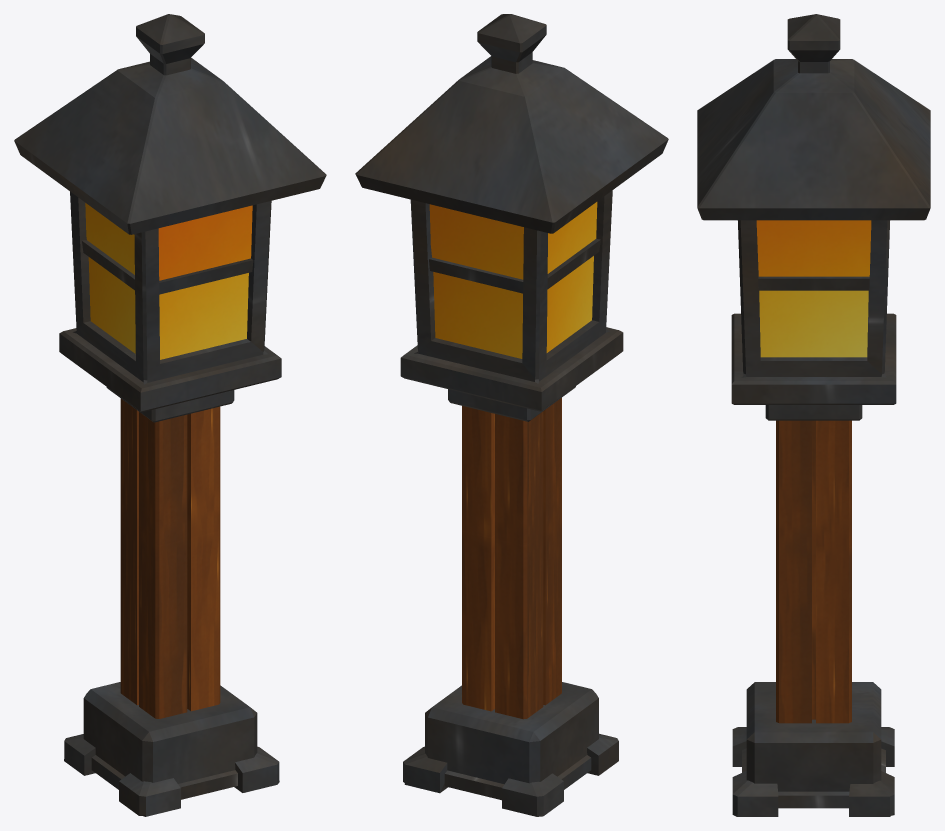
The model's file is Street_Lantern.fbx.
3 views of the same model, side by side, from view 1: azimuth 30°, elevation 25°; view 2: azimuth 150°, elevation 25°; view 3: azimuth 270°, elevation 25° (orthographic).
Parts seen in each view (by area): view 1: Street_Lantern; view 2: Street_Lantern; view 3: Street_Lantern.
Boxes of the visible parts, x1,y1,x2,y2 form: Street_Lantern: (14, 14, 326, 816); Street_Lantern: (355, 14, 668, 816); Street_Lantern: (697, 14, 930, 816).
Bounding box in the file's own units: 138 × 500 × 138.
